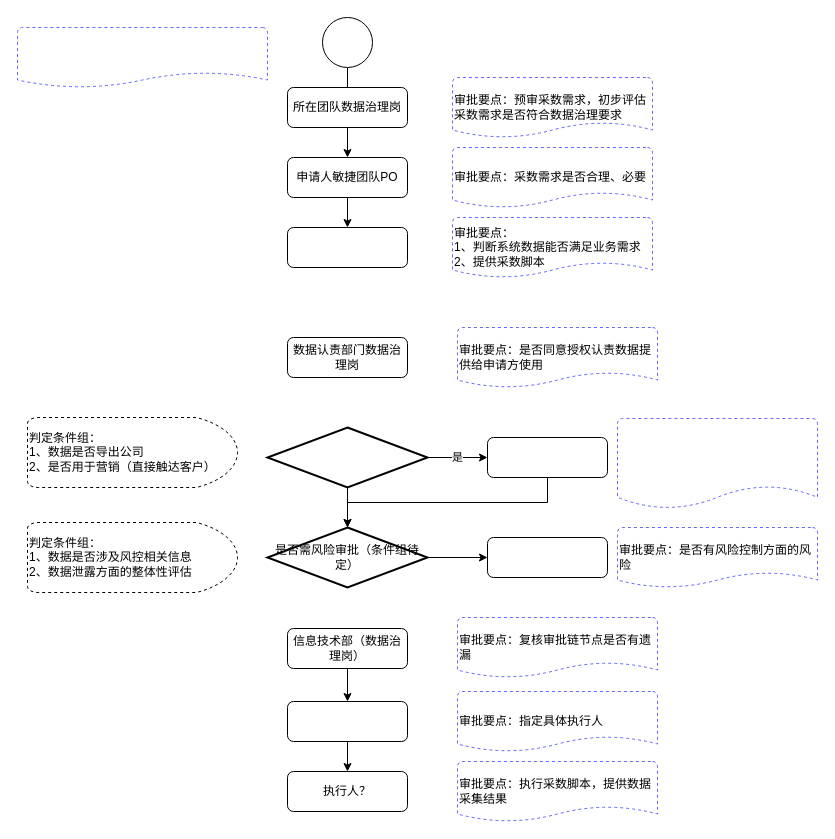
This 835x839 diagram has some shape labels left out. The box of each missing label's shape, as (x1, y1, x2, y2) in pixels:
审批要点： 1、导出公司是否有法务方面的风险（如是否需要用户授权） 2、应用场景是否在用户授权范围内: (616, 418, 818, 508)
数据采集申请提交: (322, 16, 372, 68)
数据需求执行CL: (286, 700, 408, 742)
是否需法合审批（条件组待定）: (266, 426, 428, 488)
法律合规部数据治理岗: (486, 436, 608, 478)
采数需求对接人: (286, 226, 408, 268)
非跨墙数据采集审批链: (16, 26, 268, 88)
风险管理部数据治理岗: (486, 536, 608, 578)
